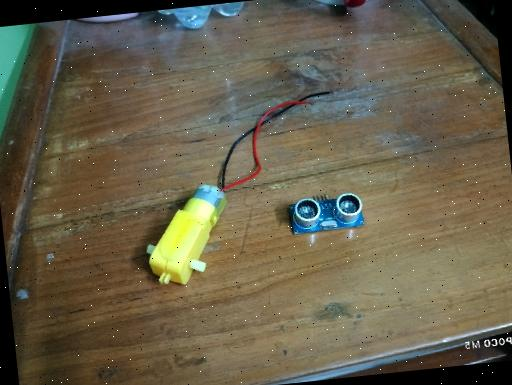Motor: (139, 180, 236, 289)
sensor: (287, 189, 365, 235)
